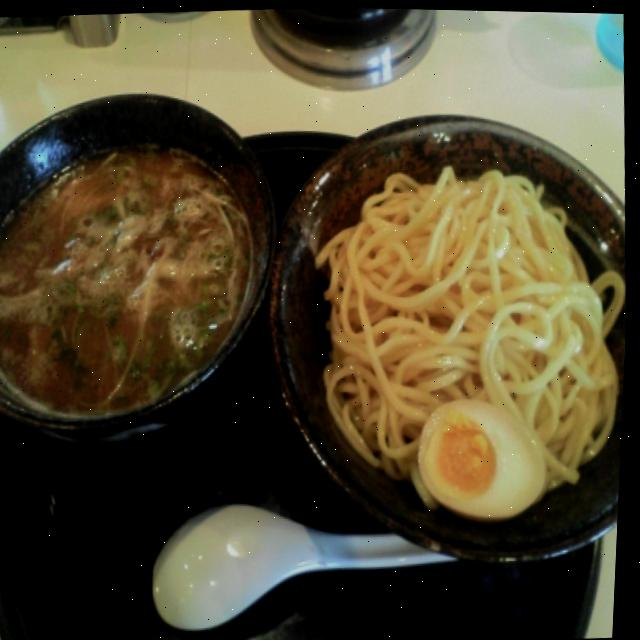面条主食: (0, 150, 635, 640)
